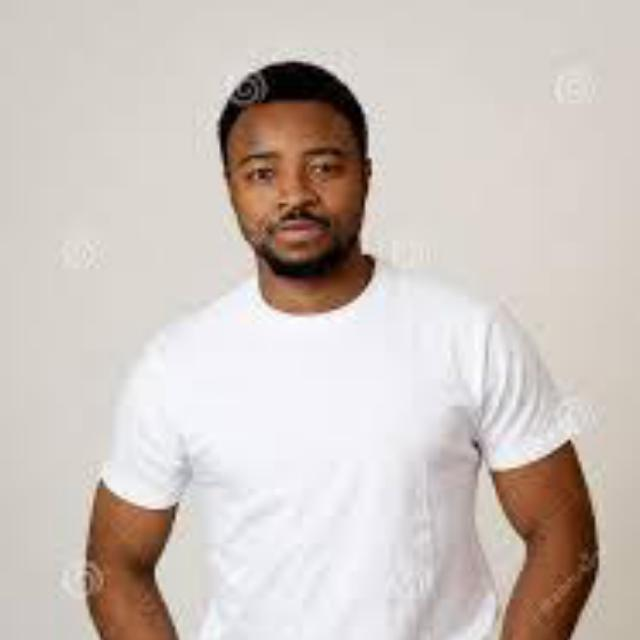Natural: (206, 94, 414, 304)
